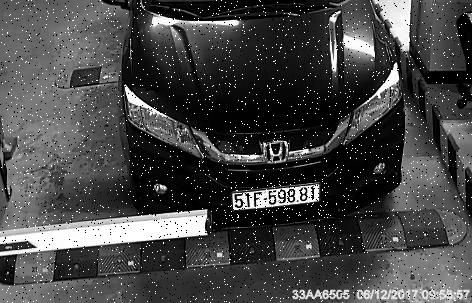License-plate: (228, 178, 329, 220)
